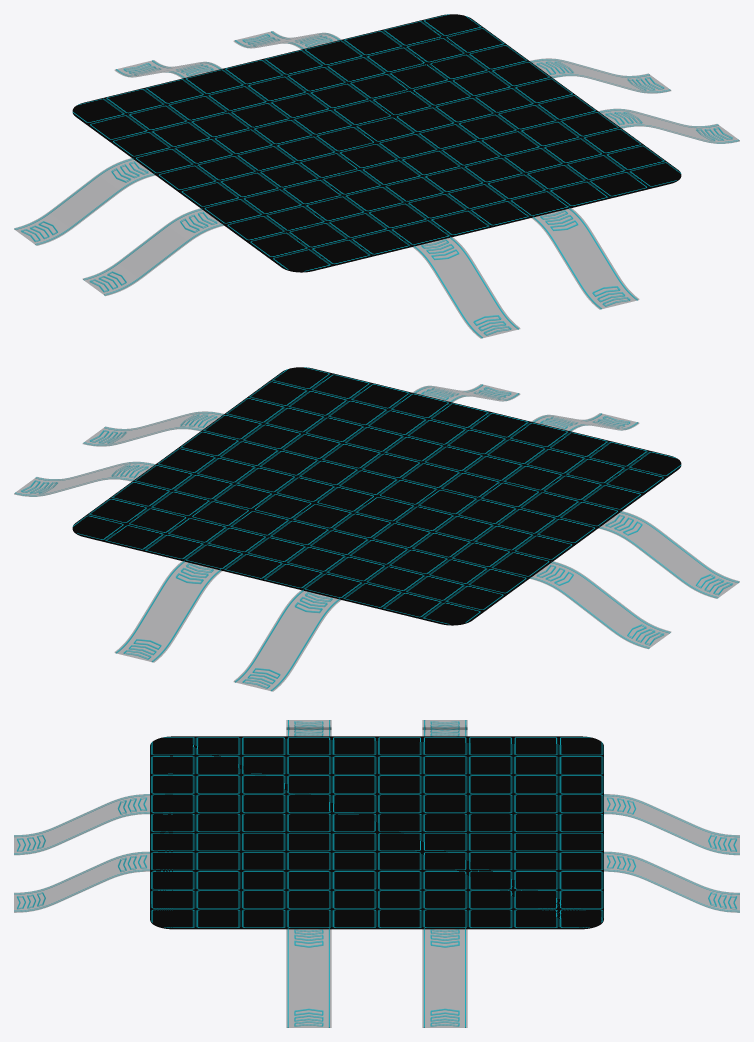
File: arena_l01_01.fbx
The picture shows the model from 3 angles, top to bottom: view 1: azimuth 30°, elevation 25°; view 2: azimuth 150°, elevation 25°; view 3: azimuth 270°, elevation 25°; orthographic projection.
Parts seen in each view (by area): view 1: Plane, Plane.005, Plane.006, Plane.008, Plane.007, Plane.004, Plane.003, Plane.001, Plane.002; view 2: Plane, Plane.002, Plane.001, Plane.007, Plane.008, Plane.003, Plane.004, Plane.005, Plane.006; view 3: Plane, Plane.004, Plane.003, Plane.001, Plane.005, Plane.002, Plane.006, Plane.007, Plane.008.
Part boxes in pixels (box(x1,y1,x2,y2)): Plane: box(72, 14, 681, 272); Plane.005: box(531, 207, 638, 309); Plane.006: box(412, 236, 519, 338); Plane.008: box(83, 208, 223, 295); Plane.007: box(14, 158, 154, 245); Plane.004: box(599, 109, 739, 143); Plane.003: box(530, 58, 670, 93); Plane.001: box(234, 31, 340, 49); Plane.002: box(115, 60, 221, 78); Plane: box(72, 367, 681, 625); Plane.002: box(234, 589, 341, 691); Plane.001: box(115, 560, 222, 662); Plane.007: box(530, 561, 670, 648); Plane.008: box(599, 511, 739, 598); Plane.003: box(14, 462, 154, 496); Plane.004: box(83, 411, 223, 446); Plane.005: box(413, 384, 519, 402); Plane.006: box(532, 413, 638, 431); Plane: box(150, 736, 603, 929); Plane.004: box(286, 928, 331, 1027); Plane.003: box(422, 928, 467, 1027); Plane.001: box(604, 852, 739, 912); Plane.005: box(14, 852, 149, 912); Plane.002: box(604, 794, 739, 854); Plane.006: box(14, 794, 149, 854); Plane.007: box(422, 720, 467, 736); Plane.008: box(286, 720, 331, 736).
Bounding box in the file's own units: 3199 × 205 × 3199.
